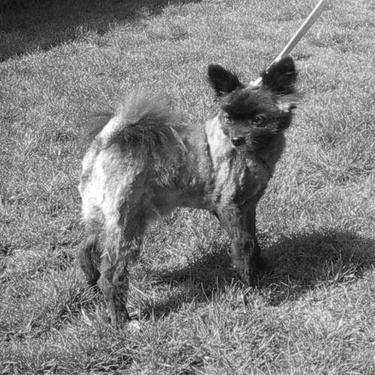dog: (66, 38, 302, 333)
